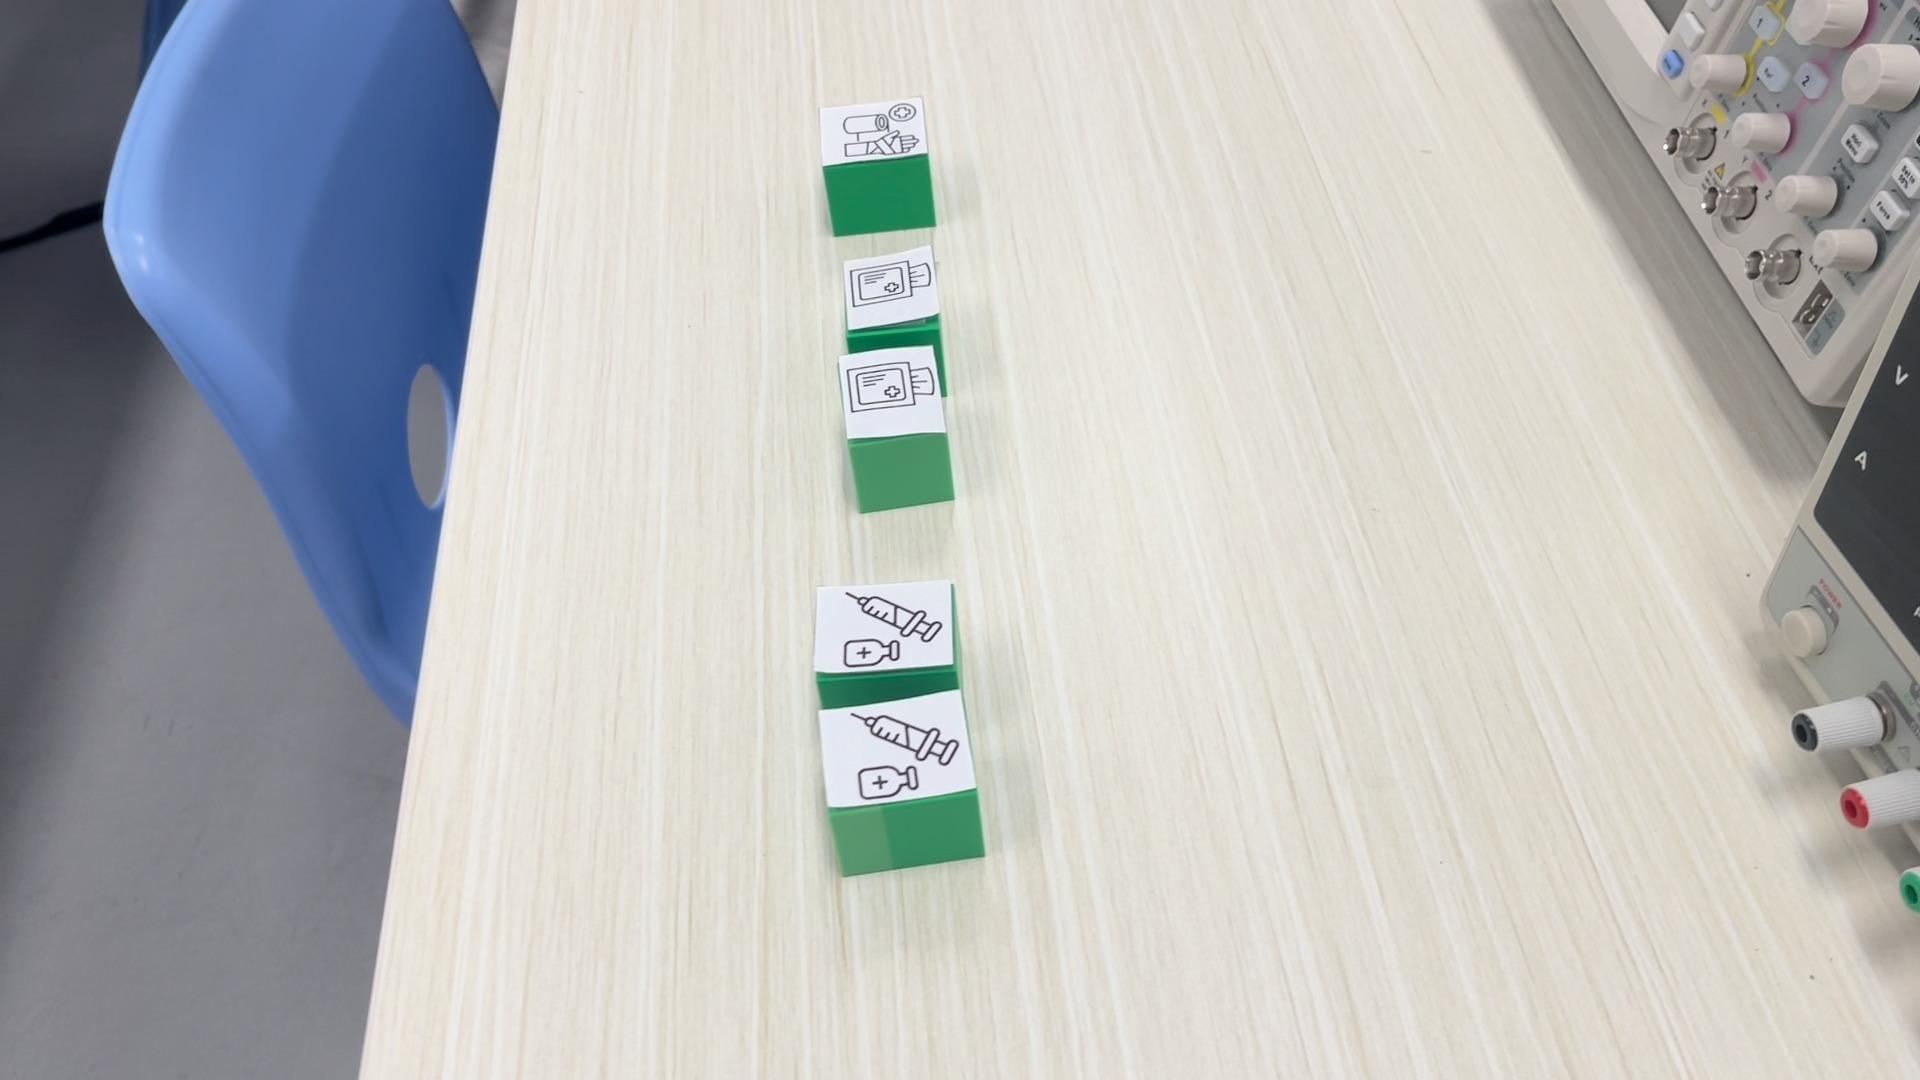Bandages: (816, 90, 939, 235)
Gauze: (836, 342, 959, 517), (844, 244, 942, 357)
antiseptic cream: (816, 687, 985, 876), (816, 579, 959, 707)
